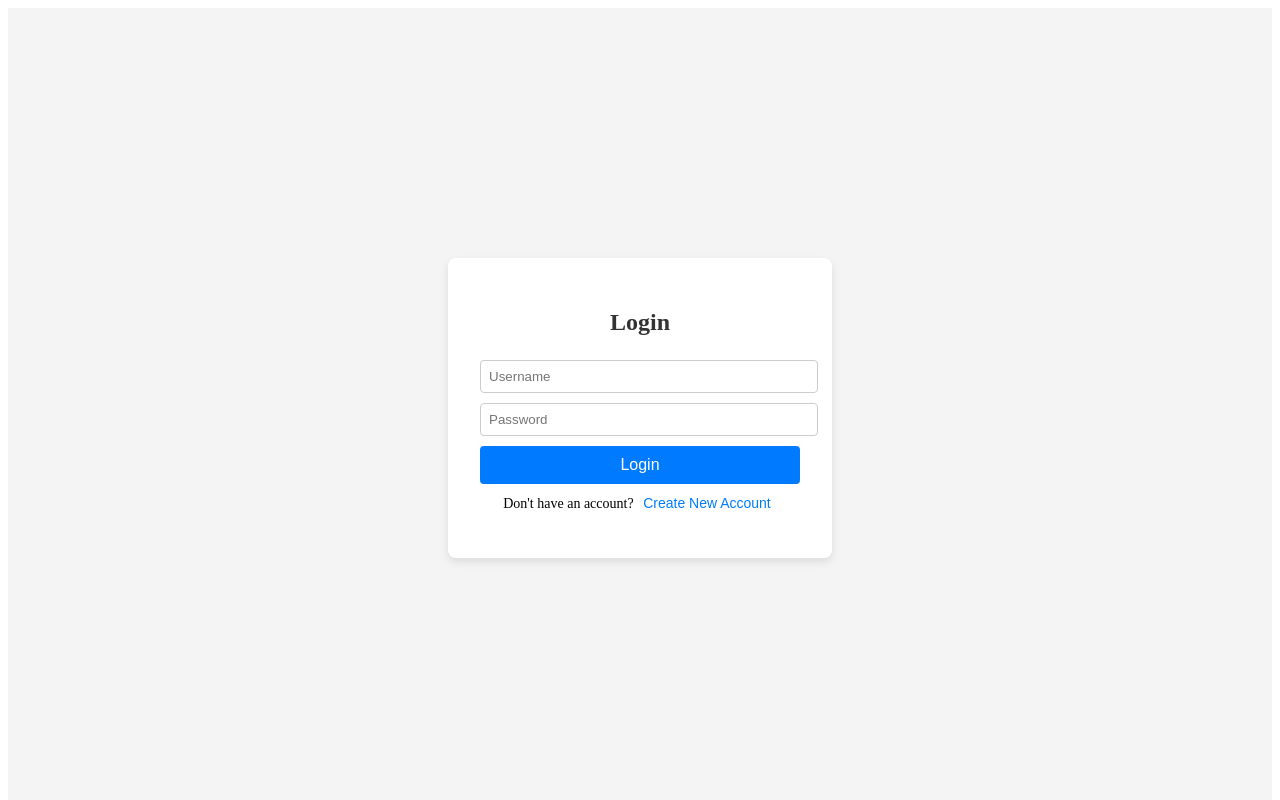
Test: Authentication Flow › Should show error message for invalid login credentials
The image size is (1280, 800).
Type "wronguser" into the field named "username" at (649, 378), box [480,361,818,394]
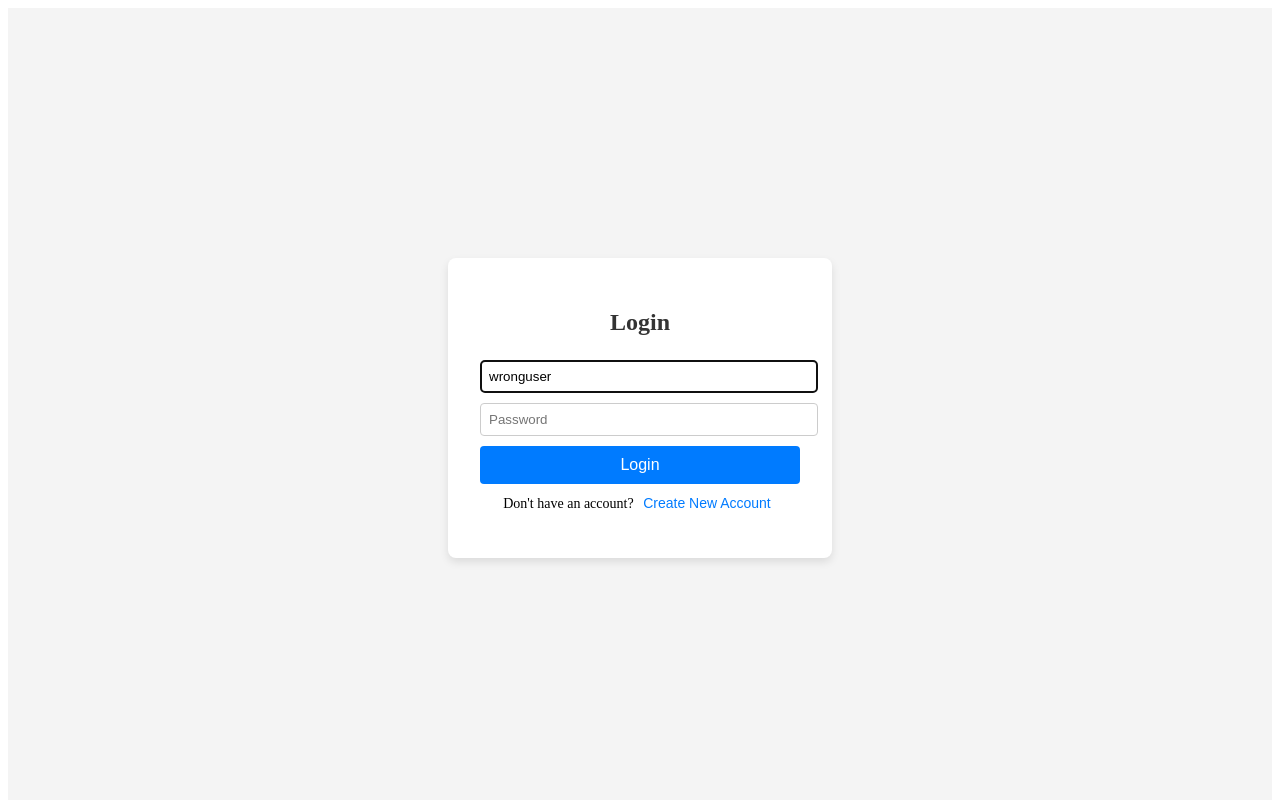
Type "WrongPassword123" into the password field named "password" at (649, 421), box [480,404,818,437]
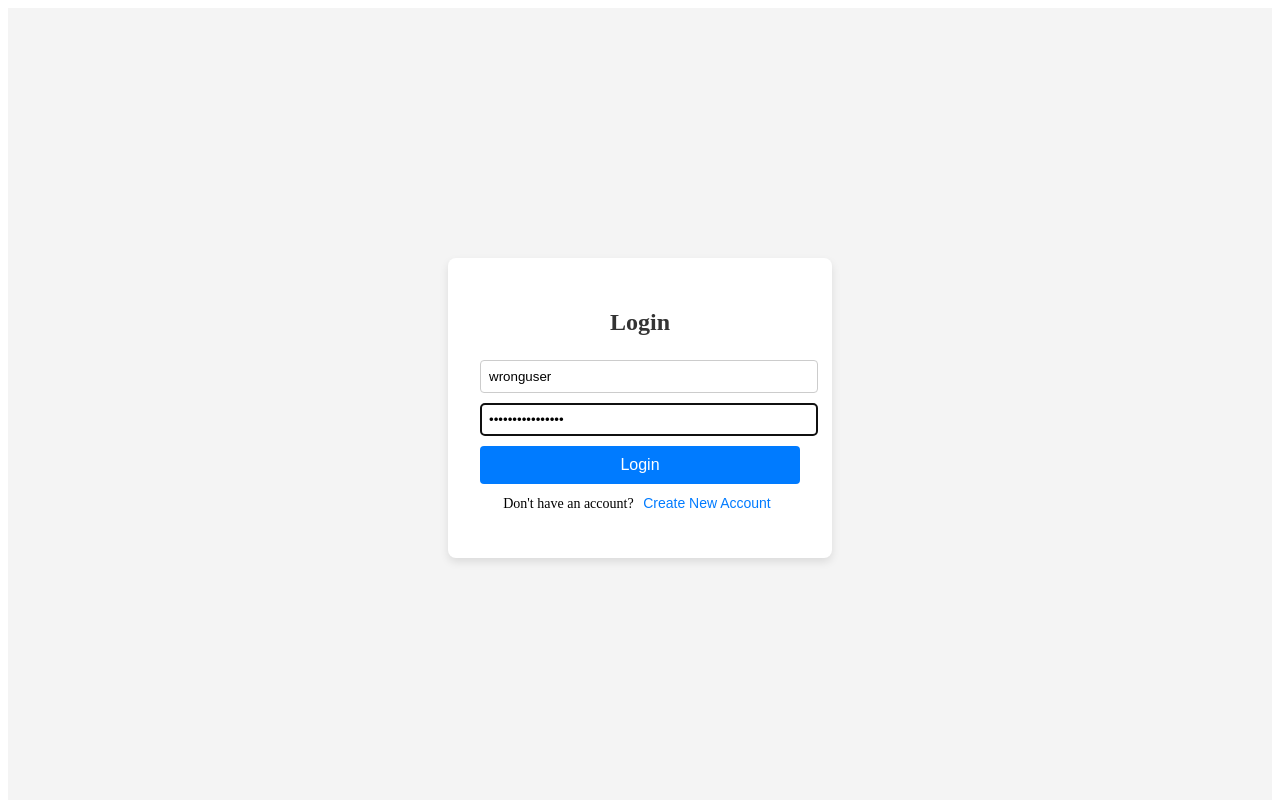
Click the submit button at (640, 466), box [480,447,800,485]
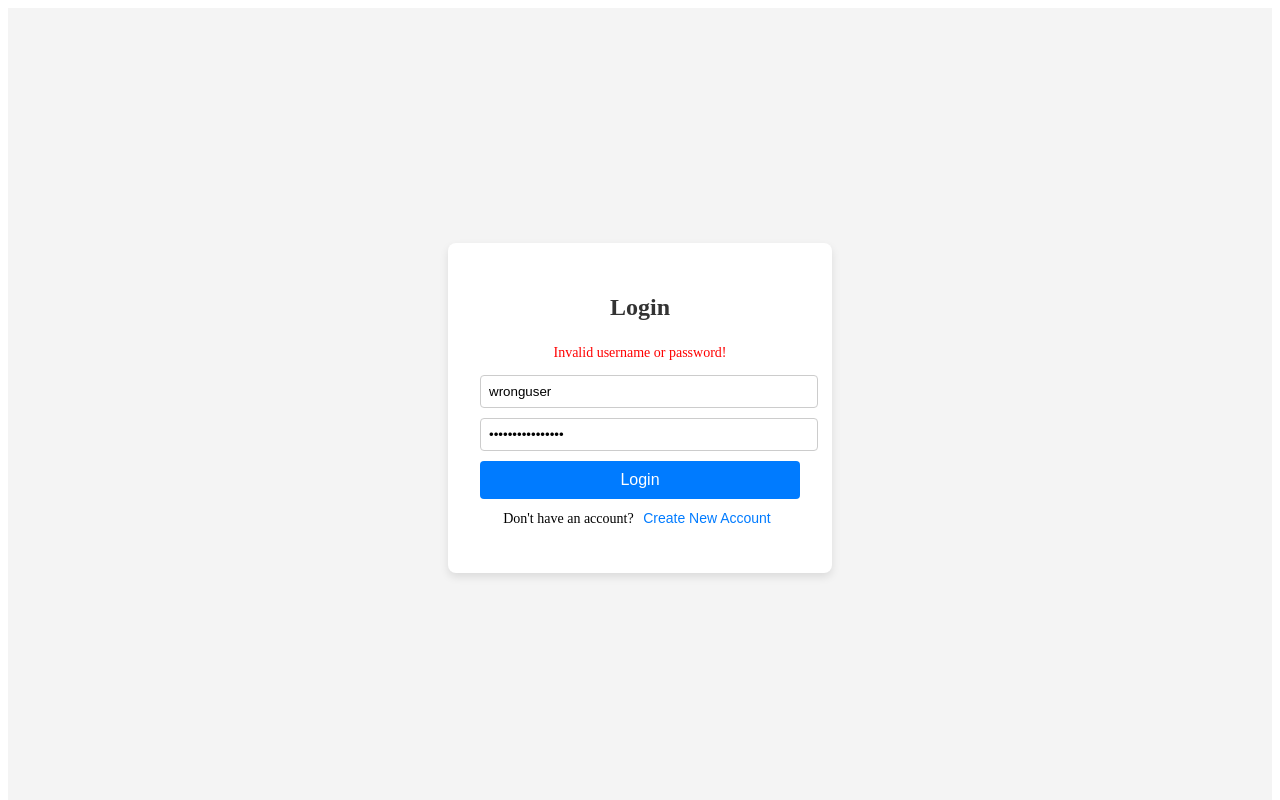
Check: the text "Invalid username or password!" is shown, box [554,346,726,360]
